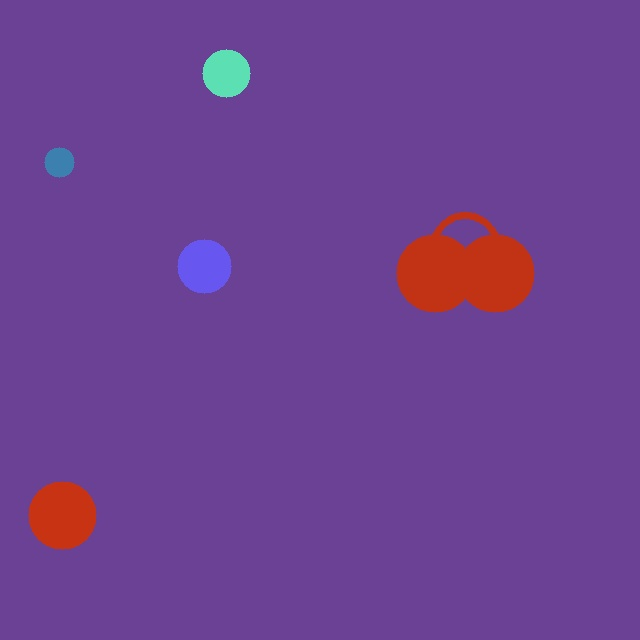over_ear: (392, 211, 538, 316)
